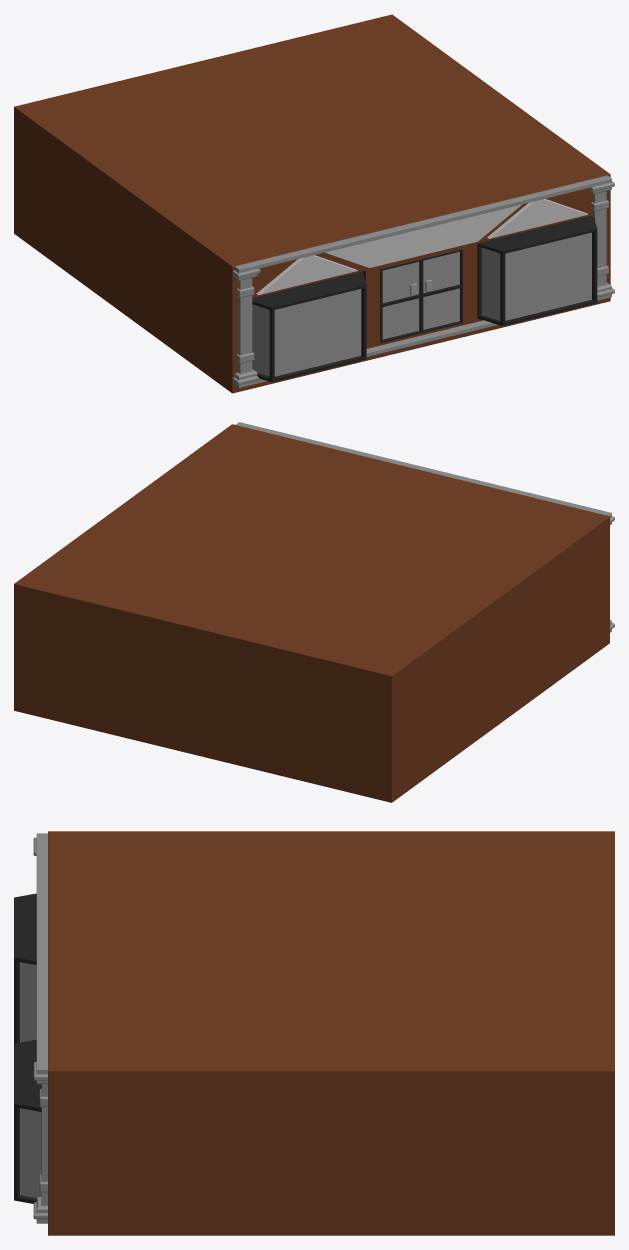
Rendered from Building3 low.fbx.
3 views of the same model, one above another, from view 1: azimuth 30°, elevation 25°; view 2: azimuth 150°, elevation 25°; view 3: azimuth 270°, elevation 25° (orthographic). The views are drawn at different scales.
Visible parts, largest first — view 1: MIDDLE BUILDING 2 LOW; view 2: MIDDLE BUILDING 2 LOW; view 3: MIDDLE BUILDING 2 LOW.
Part boxes in pixels (x1,y1,x2,y2): MIDDLE BUILDING 2 LOW: [14, 14, 614, 393]; MIDDLE BUILDING 2 LOW: [14, 422, 614, 802]; MIDDLE BUILDING 2 LOW: [14, 831, 614, 1235].
Bounding box in the file's own units: 1000 × 321 × 1060.
